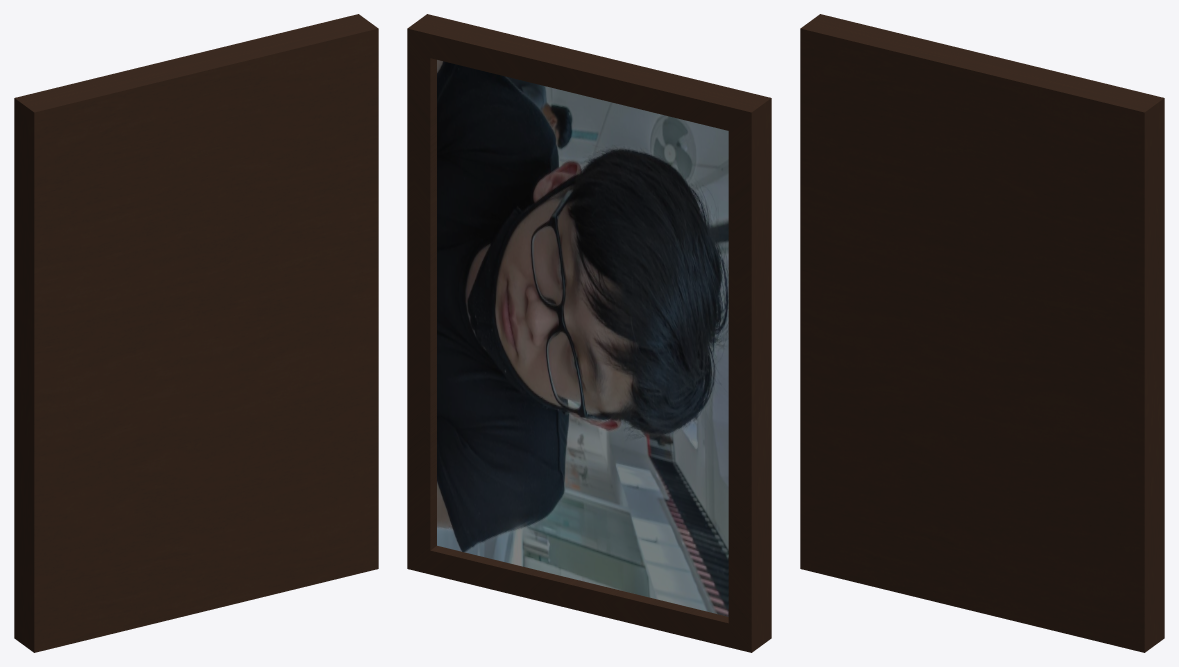
The model's file is Cantius_Portrait.fbx.
3 views of the same model, side by side, from view 1: azimuth 30°, elevation 25°; view 2: azimuth 150°, elevation 25°; view 3: azimuth 330°, elevation 25° (orthographic).
Visible parts, largest first — view 1: Box002; view 2: Box002; view 3: Box002.
Boxes of the visible parts, x1,y1,x2,y2 form: Box002: (14,14,378,652); Box002: (407,14,771,652); Box002: (800,14,1164,652).
Bounding box in the file's own units: 0.3 × 0.45 × 0.03.
